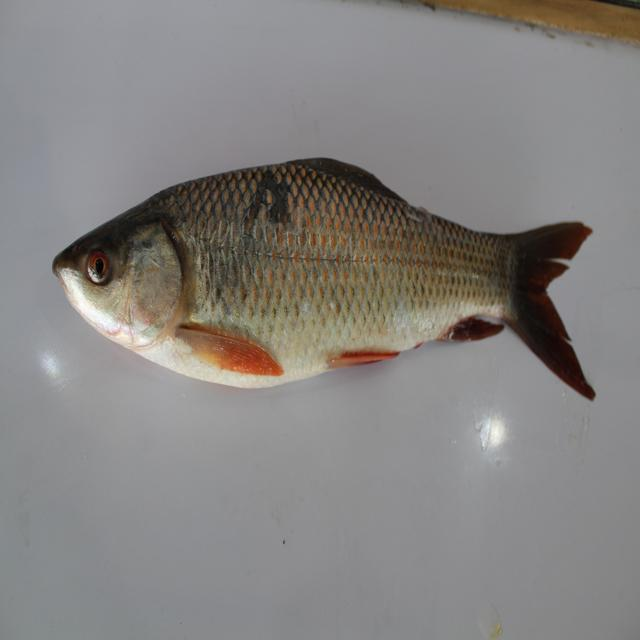Rohu: (48, 143, 601, 437)
